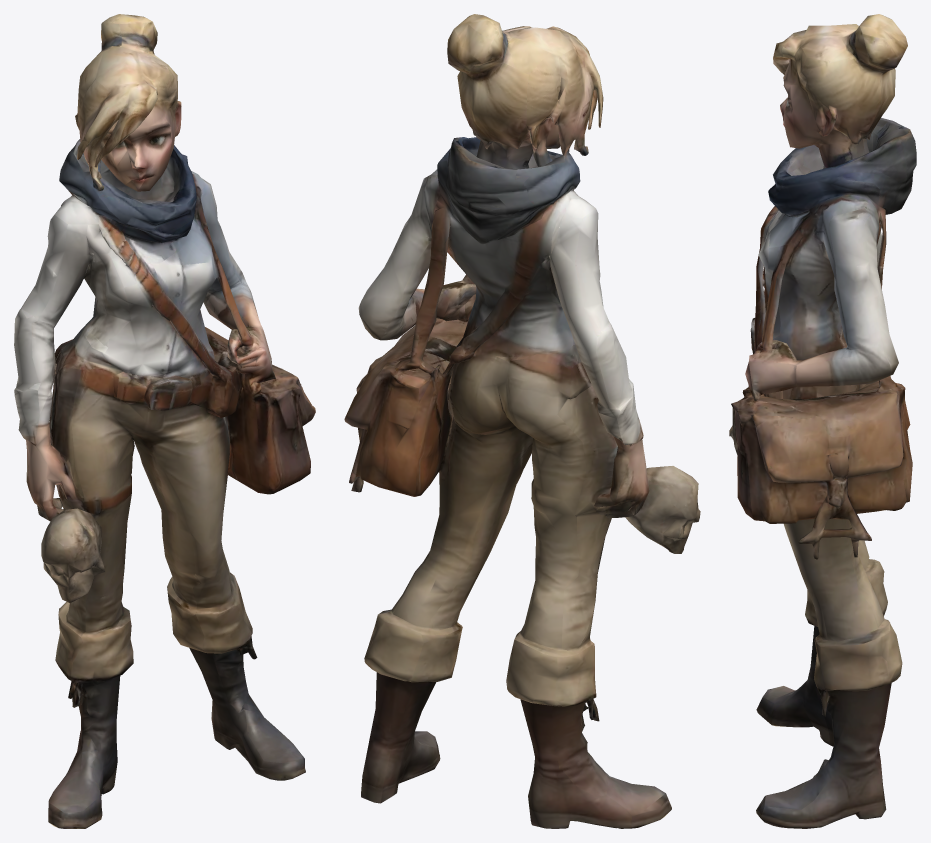
The model's file is crew-personB.glb.
The picture shows the model from 3 angles, left to right: view 1: azimuth 30°, elevation 25°; view 2: azimuth 150°, elevation 25°; view 3: azimuth 270°, elevation 25°; orthographic projection. The views are drawn at different scales.
Size of the model in its own units: 0.7775 by 2 by 0.4541.
1 material, 1 textured.
